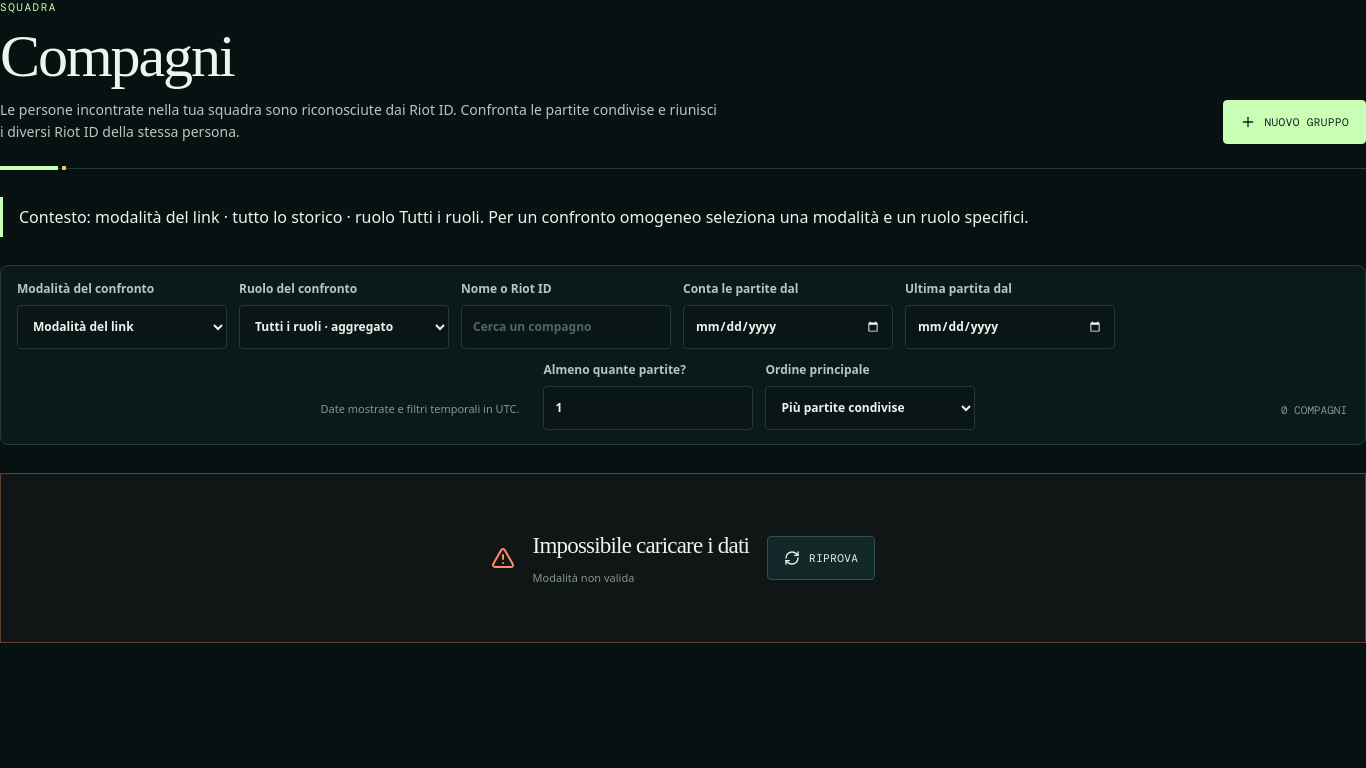
mantiene la validazione server per unknown e permette una scelta esplicita
Expected: the message "Impossibile caricare i dati Modalità non valida Riprova" is shown, [0,473,1365,643]
Select "Tutte le modalità · aggregato" in the dropdown labelled "Modalità del confronto". click: (122, 327)
box: [17,305,227,349]
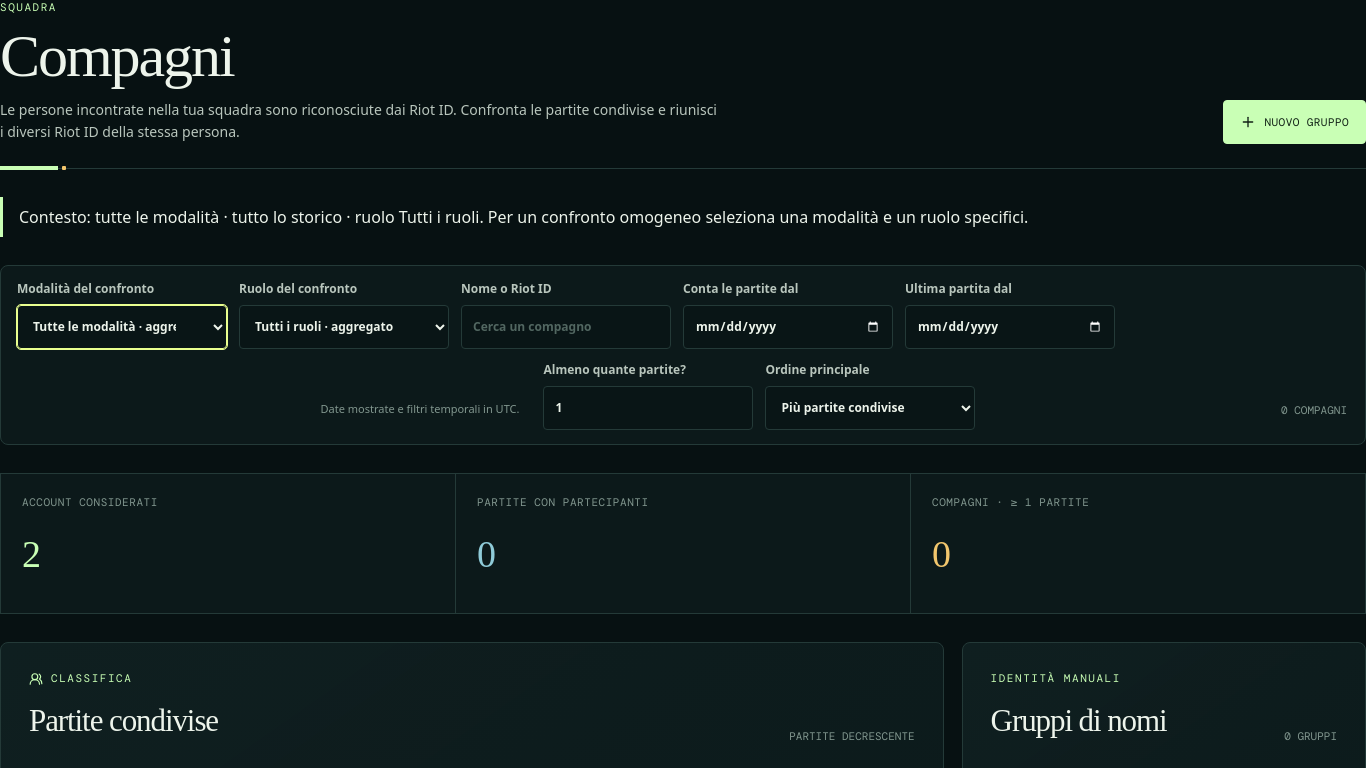
Expected: the message "Impossibile caricare i dati Modalità non valida Riprova" is gone
